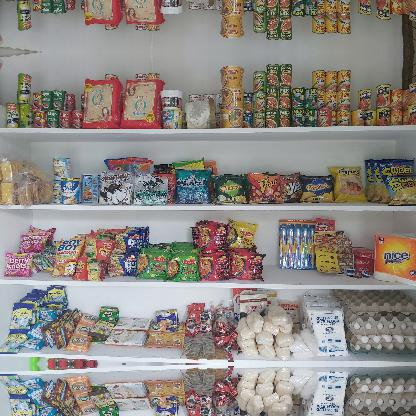Lady-s-Choice: (184, 98, 216, 128), (184, 0, 216, 7)
